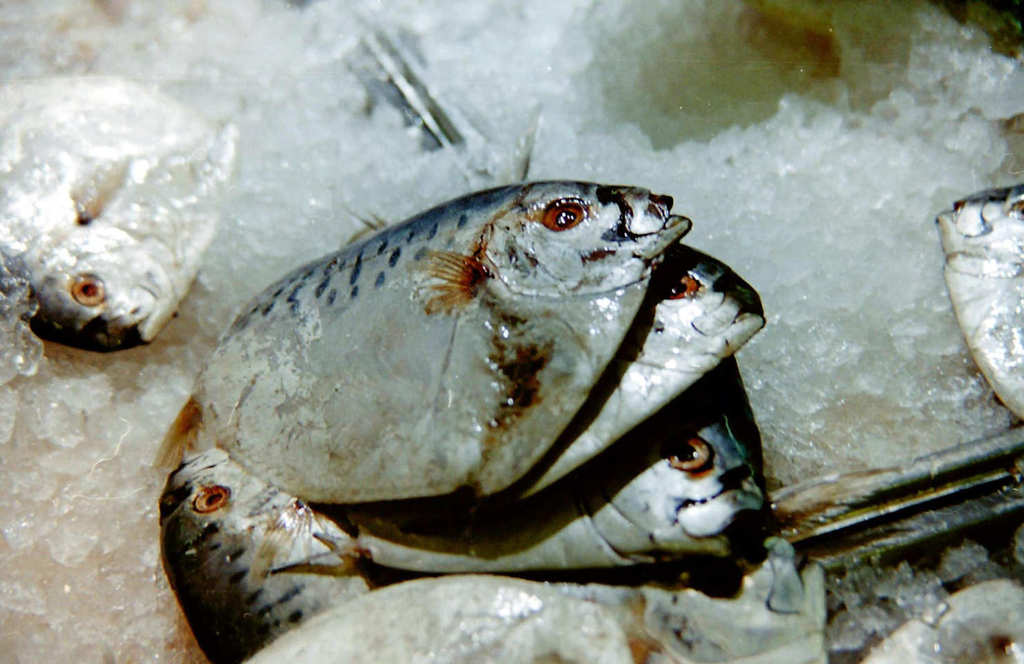Animal: (151, 175, 675, 498), (334, 352, 779, 574), (515, 236, 773, 497), (3, 67, 240, 346), (159, 441, 403, 663), (935, 180, 1022, 418)
